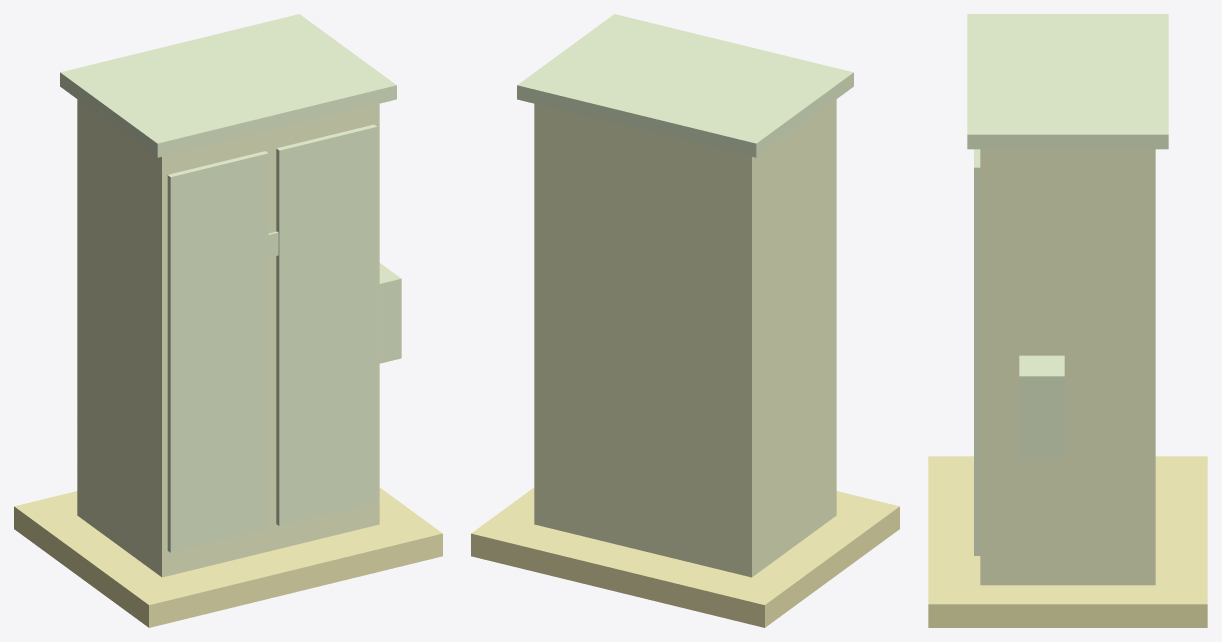
File: furniture_rail_crossing_controller_cabinet.glb
3 views of the same model, side by side, from view 1: azimuth 30°, elevation 25°; view 2: azimuth 150°, elevation 25°; view 3: azimuth 270°, elevation 25° (orthographic). The views are drawn at different scales.
Visible parts, largest first — view 1: cabinet, door_left, door_right, roof_cap, pad, service_box; view 2: cabinet, roof_cap, pad; view 3: cabinet, roof_cap, pad, service_box, door_right.
Part boxes in pixels (x1=…): cabinet: x1=77, y1=99, x2=379, y2=577; door_left: x1=167, y1=151, x2=268, y2=552; door_right: x1=276, y1=124, x2=377, y2=526; roof_cap: x1=60, y1=14, x2=396, y2=157; pad: x1=14, y1=487, x2=442, y2=627; service_box: x1=379, y1=263, x2=401, y2=363; cabinet: x1=534, y1=99, x2=836, y2=577; roof_cap: x1=517, y1=14, x2=853, y2=157; pad: x1=471, y1=487, x2=899, y2=627; cabinet: x1=980, y1=149, x2=1155, y2=585; roof_cap: x1=967, y1=14, x2=1168, y2=149; pad: x1=928, y1=456, x2=1207, y2=627; service_box: x1=1019, y1=355, x2=1064, y2=458; door_right: x1=974, y1=149, x2=980, y2=555.
Size of the model in its own units: 1.09 by 1.63 by 0.86.
